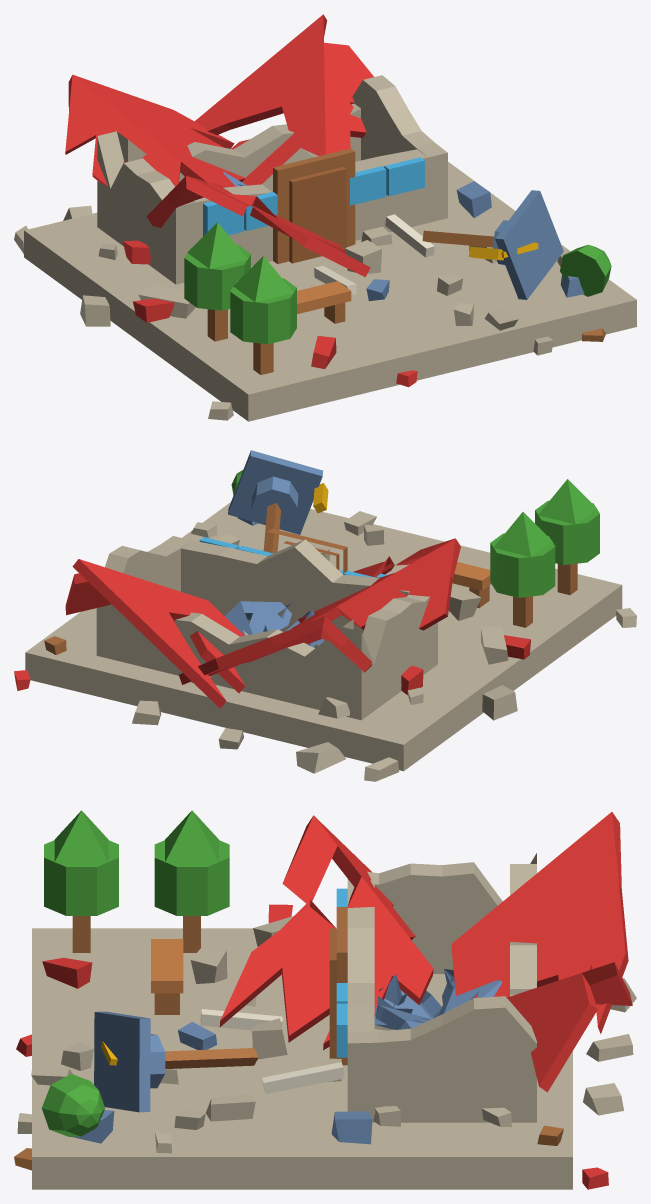
File: university_t1_v2_dmg2.glb
3 views of the same model, one above another, from view 1: azimuth 30°, elevation 25°; view 2: azimuth 150°, elevation 25°; view 3: azimuth 270°, elevation 25° (orthographic). The views are drawn at different scales.
Visible parts, largest first — view 1: university_t1_v2_dmg2; view 2: university_t1_v2_dmg2; view 3: university_t1_v2_dmg2.
Boxes of the visible parts, left/top/right/bottom form: university_t1_v2_dmg2: left=14, top=14, right=636, bottom=421; university_t1_v2_dmg2: left=14, top=450, right=636, bottom=781; university_t1_v2_dmg2: left=14, top=810, right=636, bottom=1189.
Bounding box in the file's own units: 0.6495 × 0.2293 × 0.6909.
Materials: 1 (1 with a texture image).
